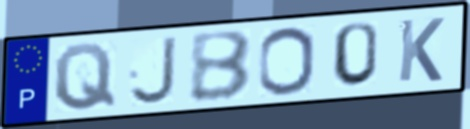0: (329, 20, 379, 90)
B: (188, 28, 255, 104)
J: (127, 34, 178, 107)
K: (395, 16, 447, 85)
O: (256, 24, 317, 97)
Q: (52, 41, 119, 113)
